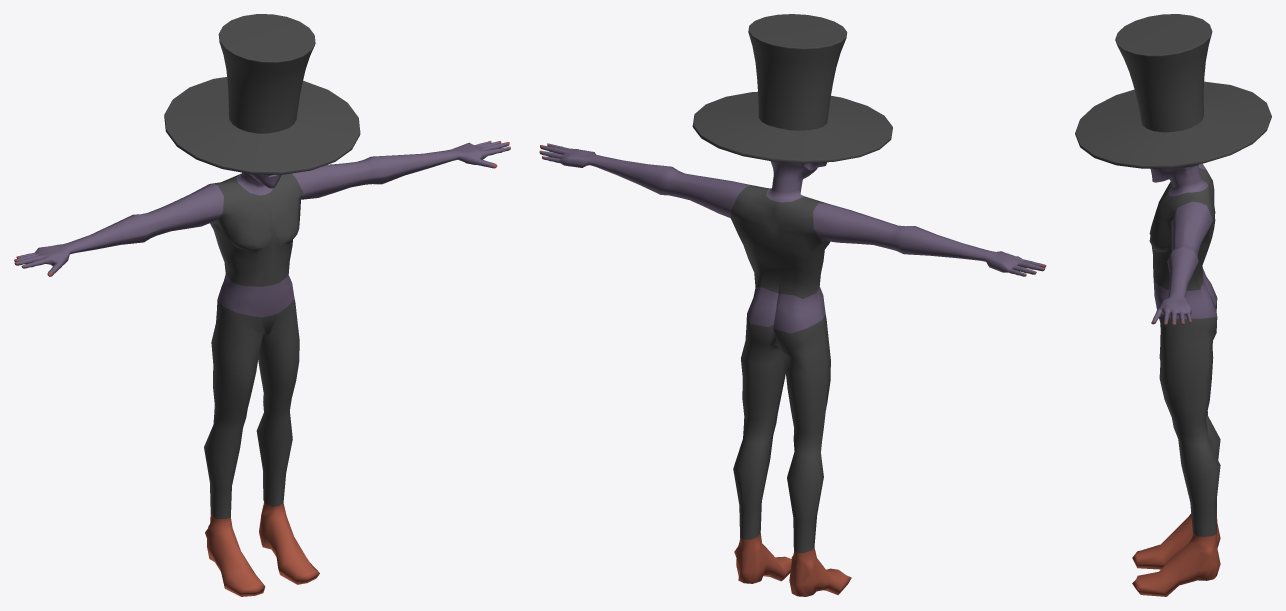
File: inkBossTeest0506.fbx
The picture shows the model from 3 angles, left to right: view 1: azimuth 30°, elevation 25°; view 2: azimuth 150°, elevation 25°; view 3: azimuth 270°, elevation 25°; orthographic projection. The views are drawn at different scales.
Parts seen in each view (by area): view 1: body, hat1; view 2: body, hat1; view 3: body, hat1.
Part boxes in pixels (box(x1,y1,x2,y2)): body: box(14, 141, 510, 596); hat1: box(164, 14, 360, 174); body: box(539, 143, 1046, 596); hat1: box(692, 14, 892, 163); body: box(1132, 163, 1220, 596); hat1: box(1075, 14, 1271, 168).
Size of the model in its own units: 235 by 248 by 81.1.
